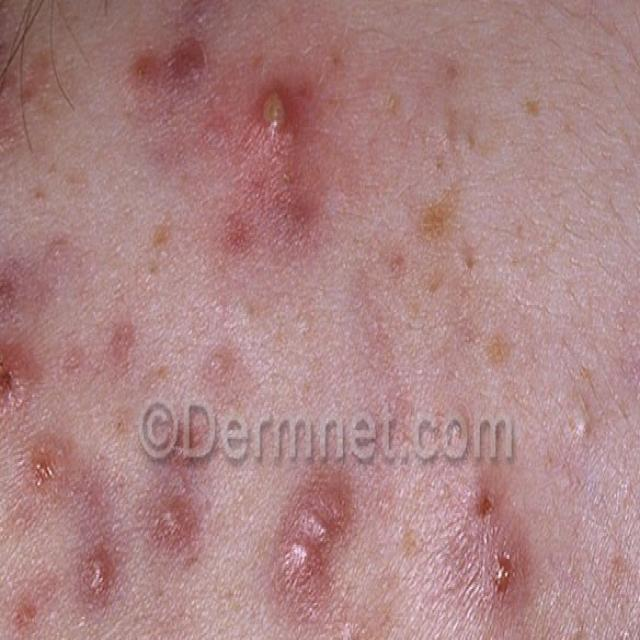Acne: (0, 322, 210, 601), (101, 24, 360, 225), (429, 423, 551, 628), (0, 49, 101, 284), (264, 452, 353, 635), (400, 166, 475, 274)
